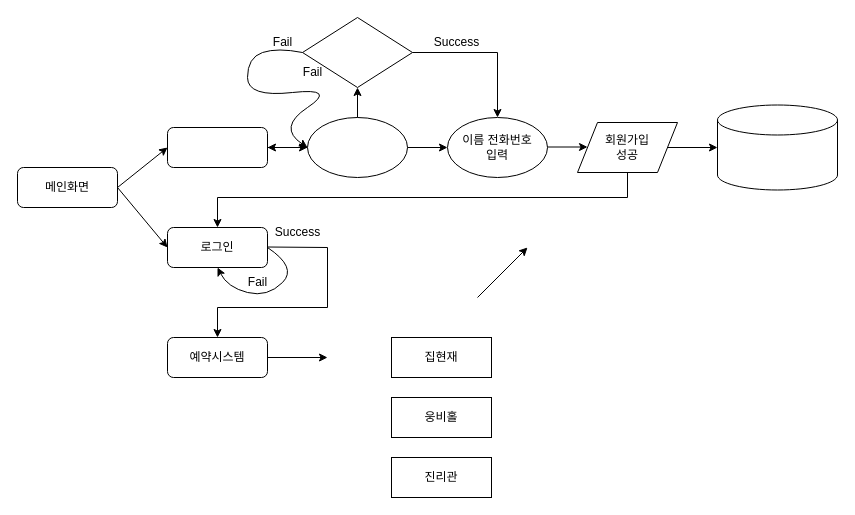
Image size: 855x515. Some labels were removed from this diagram. Here are the shapes that lost their labels. From the top down, the box of each, then its label:
(302, 16, 412, 88): 중복아이디 확인
(166, 126, 268, 168): 회원가입
(306, 116, 408, 178): 아이디 비밀번호 입력
(716, 104, 838, 190): 아이디,비밀번호,이름 저장
